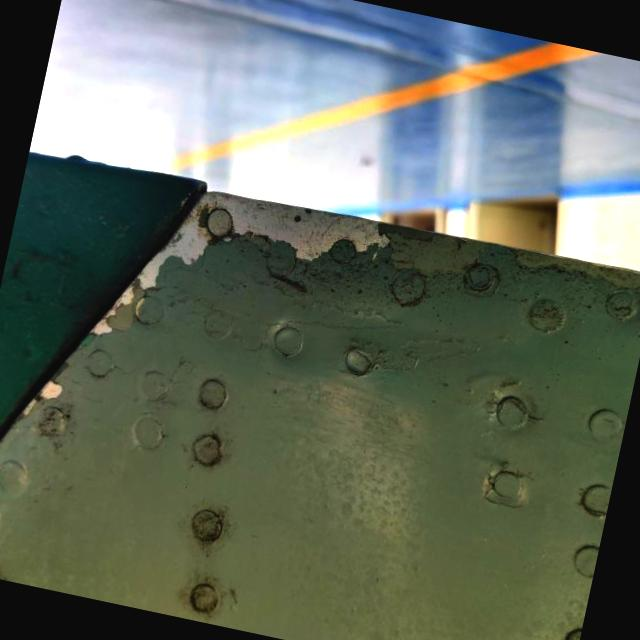paint-off: (72, 149, 410, 403)
